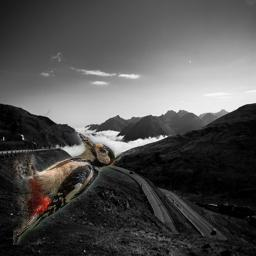Woodpecker: (13, 133, 115, 245)
